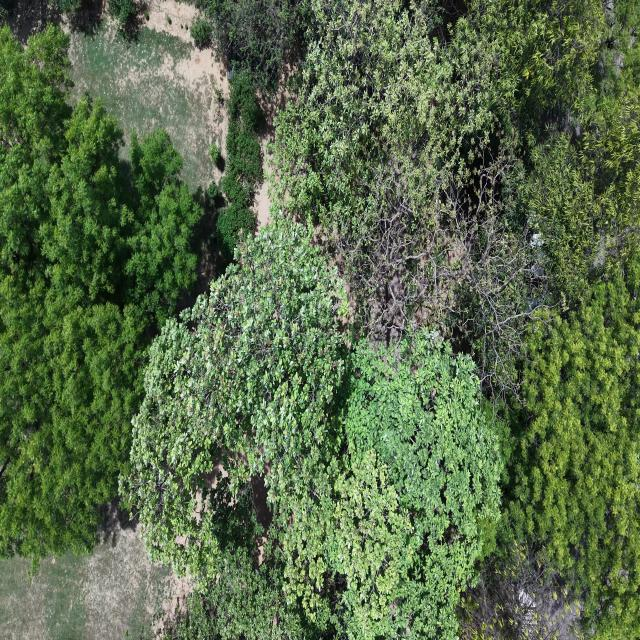DRY_AREA: (9, 0, 228, 191), (67, 0, 228, 191), (70, 0, 228, 191), (0, 524, 183, 639)
VEGETATION_TREE: (0, 0, 639, 639), (274, 0, 639, 637), (125, 222, 500, 638), (274, 0, 637, 394), (0, 27, 202, 559), (274, 0, 547, 391), (479, 3, 639, 637), (124, 223, 346, 581), (283, 331, 500, 638), (466, 258, 639, 638), (473, 2, 639, 310), (505, 263, 639, 637), (519, 43, 639, 309), (164, 494, 317, 639), (125, 129, 202, 324), (458, 542, 583, 639), (192, 0, 310, 93), (217, 72, 263, 256), (107, 0, 138, 30), (109, 0, 138, 28), (191, 17, 212, 48), (54, 0, 82, 14), (209, 142, 223, 167), (207, 181, 220, 203), (0, 2, 10, 25), (144, 11, 150, 21), (167, 16, 171, 24)
